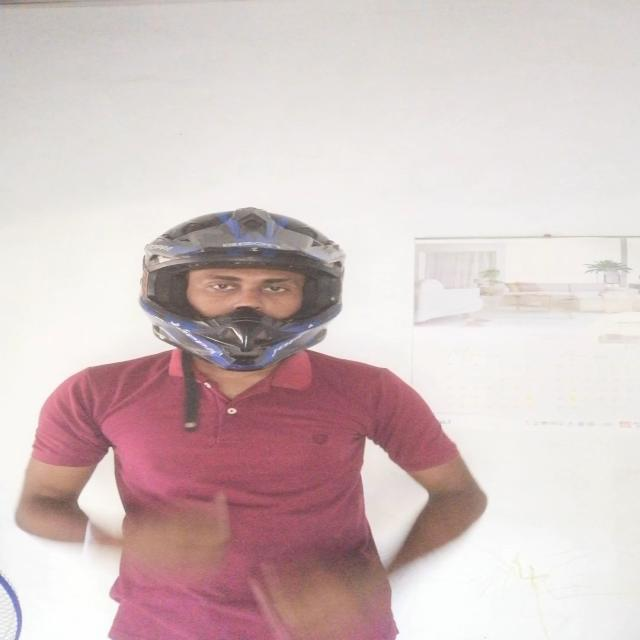Helmet_Wearer: (127, 202, 357, 393)
Person: (27, 204, 465, 640)
